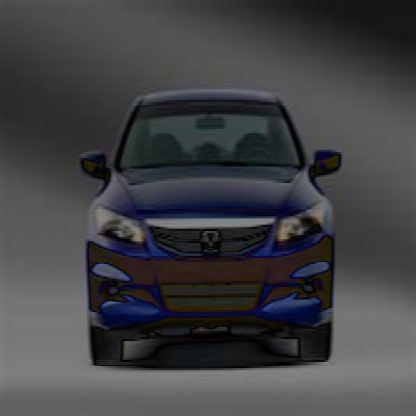Vehicle: (81, 92, 346, 374)
